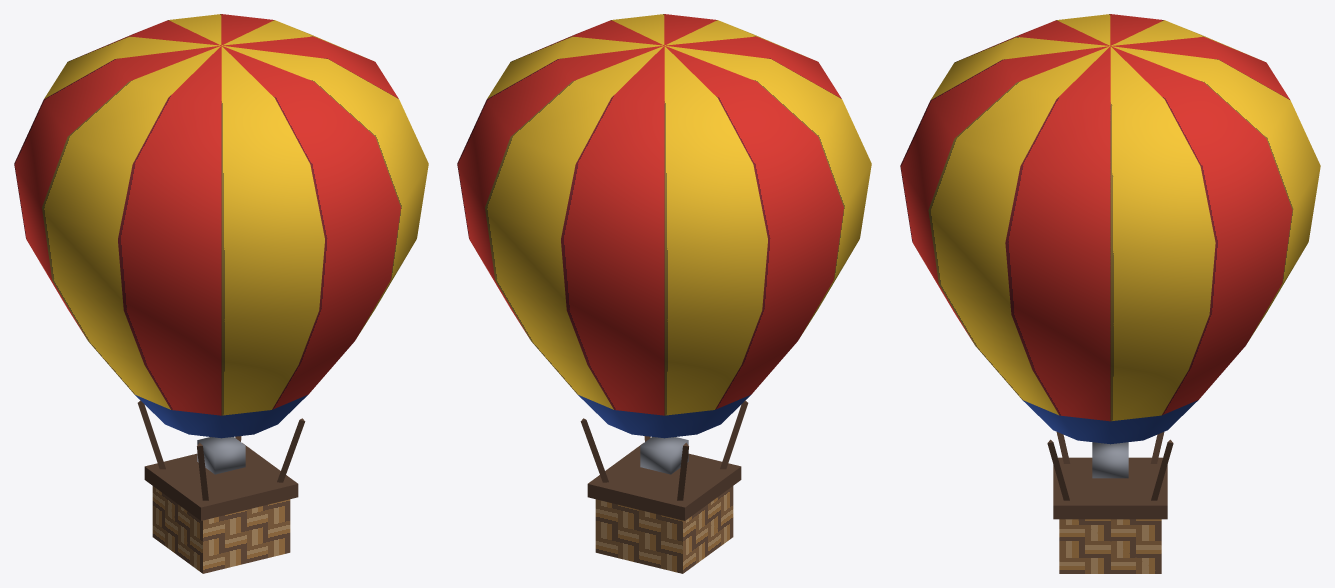
The model's file is outdoors-hotAirBalloon.glb.
The picture shows the model from 3 angles, left to right: view 1: azimuth 30°, elevation 25°; view 2: azimuth 150°, elevation 25°; view 3: azimuth 270°, elevation 25°; orthographic projection.
Visible parts, largest first — view 1: outdoors.hotAirBalloon; view 2: outdoors.hotAirBalloon; view 3: outdoors.hotAirBalloon.
Boxes of the visible parts, x1,y1,x2,y2 form: outdoors.hotAirBalloon: [14, 14, 428, 573]; outdoors.hotAirBalloon: [457, 14, 871, 573]; outdoors.hotAirBalloon: [900, 14, 1320, 573].
Size of the model in its own units: 1.46 by 1.94 by 1.46.
Materials: 6 (5 with a texture image).
